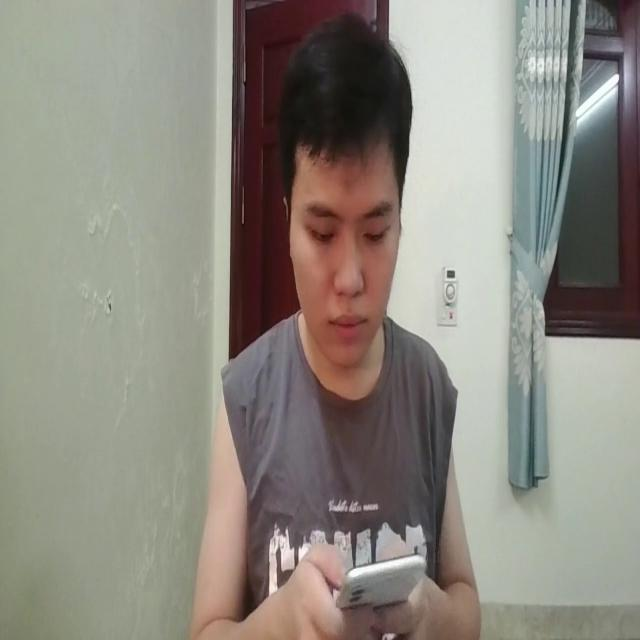phone: (334, 541, 430, 616)
student: (191, 6, 484, 640)
